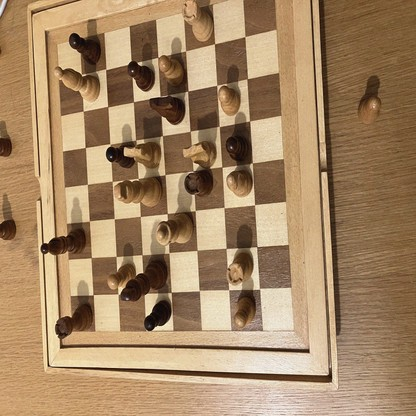bishop_black: (40, 228, 86, 257)
bishop_white: (56, 67, 99, 103), (226, 168, 253, 197)
king_black: (122, 259, 168, 302)
king_white: (114, 177, 162, 207)
knight_black: (151, 97, 185, 125)
knight_white: (123, 140, 161, 169), (182, 139, 217, 167)
pawn_black: (69, 33, 101, 63), (144, 300, 173, 332), (128, 62, 154, 90), (107, 144, 136, 167), (226, 137, 249, 160)
pawn_white: (158, 56, 185, 86), (233, 297, 256, 329), (107, 263, 135, 289), (359, 97, 381, 125), (218, 87, 240, 115)
queen_white: (155, 214, 194, 245)
rock_black: (55, 305, 94, 339), (186, 171, 213, 195)
rock_white: (181, 1, 213, 42), (226, 254, 254, 284)
